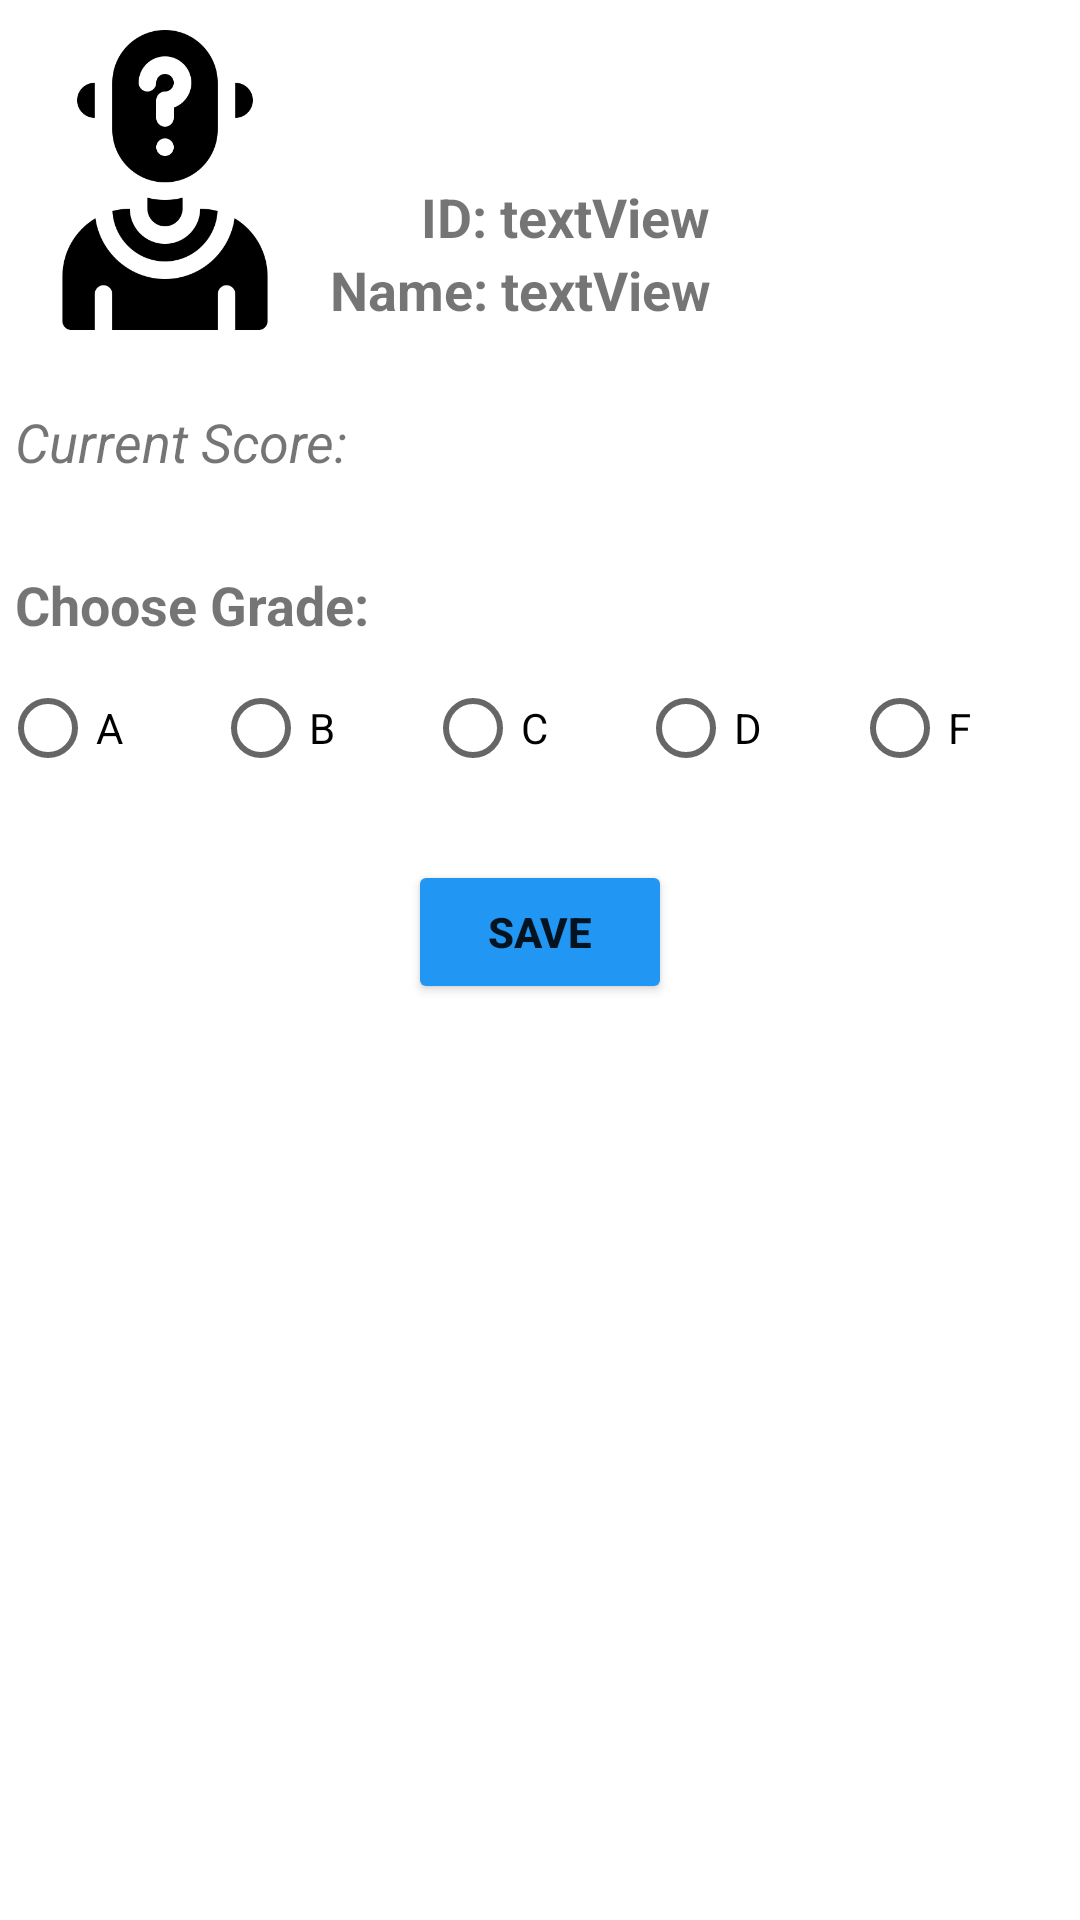

Point at icon controls on the screen. Image size 1080×1920, points as [x,y].
photo: [165,180]
